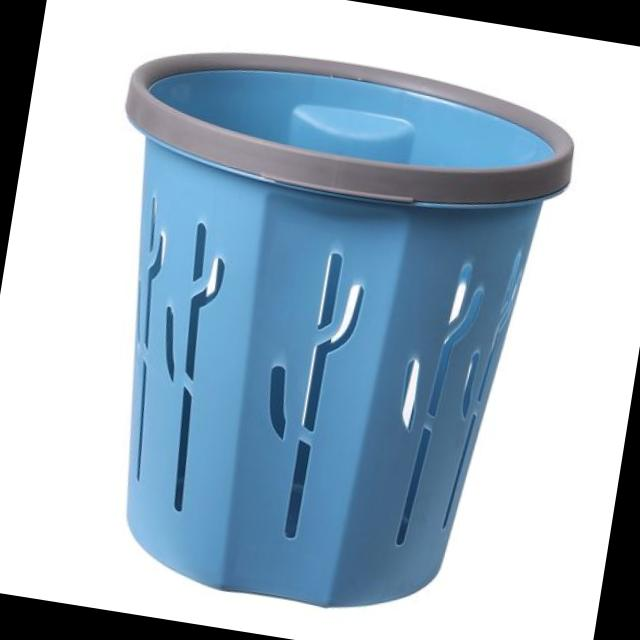dustbin: (46, 21, 592, 640)
